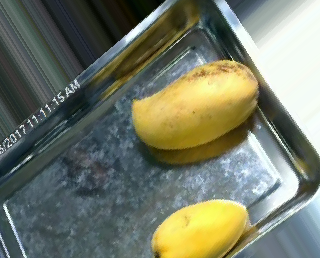Mango: (125, 58, 261, 155), (148, 193, 248, 257)
